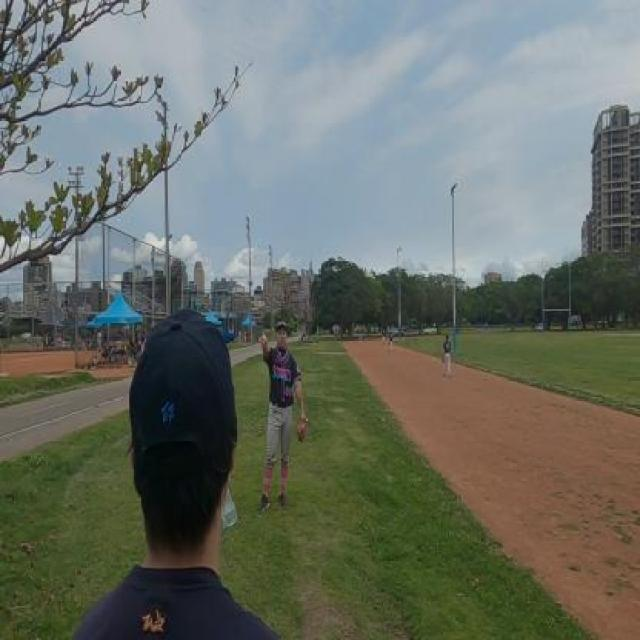baseball: (249, 278, 253, 287)
